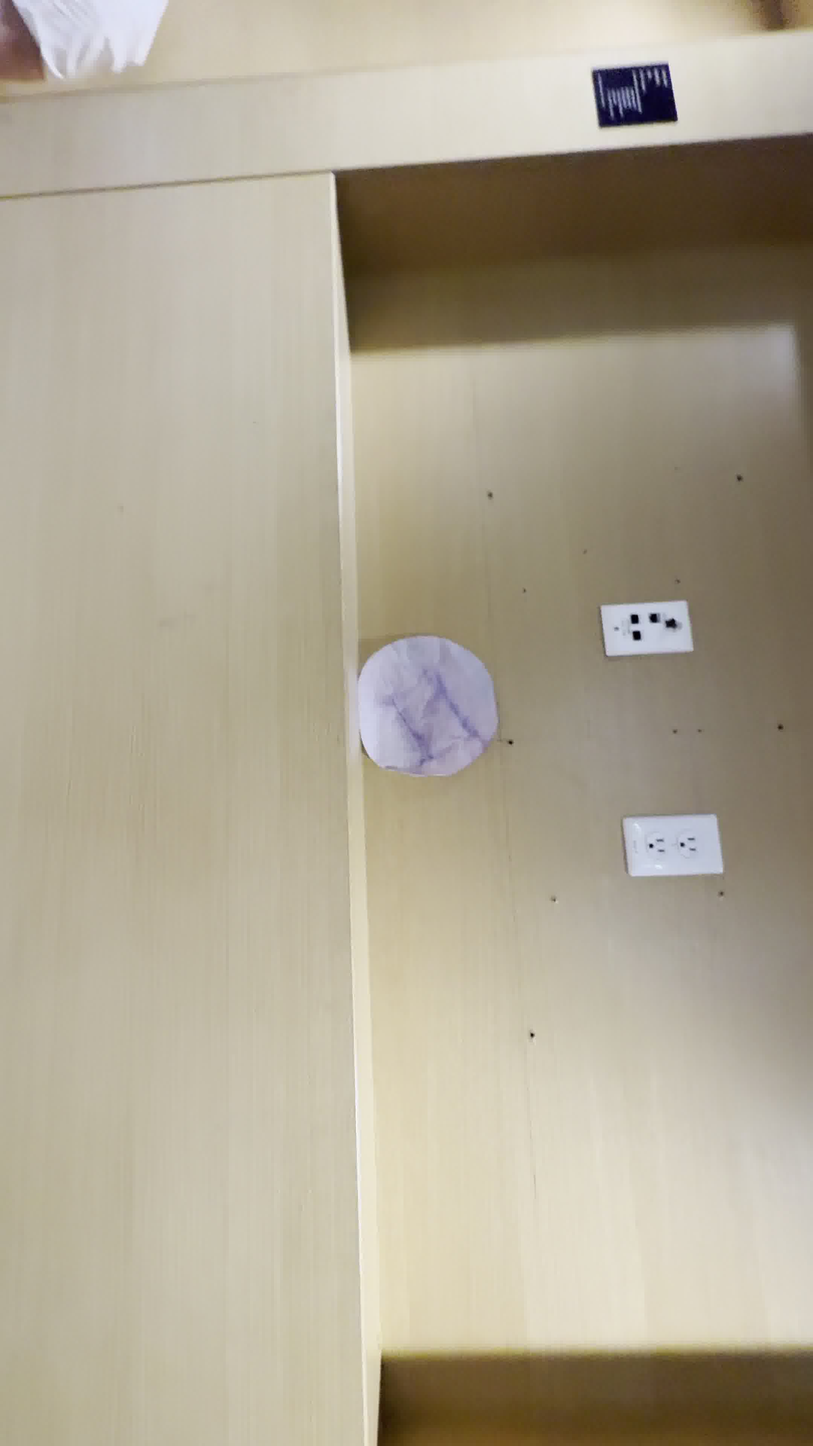Target: (360, 632, 497, 777)
